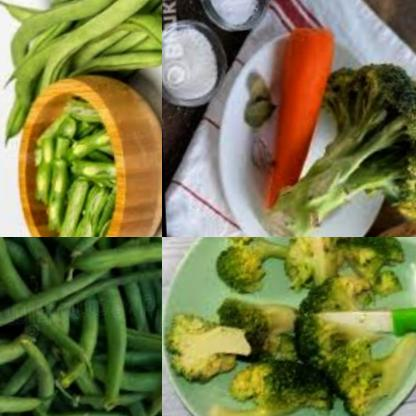beans: (0, 237, 162, 416), (0, 0, 162, 113), (10, 97, 118, 237)
broccoli: (267, 63, 416, 237), (162, 289, 302, 386), (218, 352, 364, 416), (201, 237, 306, 308), (333, 330, 416, 416), (330, 237, 411, 312), (295, 237, 351, 293)
carrot: (257, 19, 343, 210)
